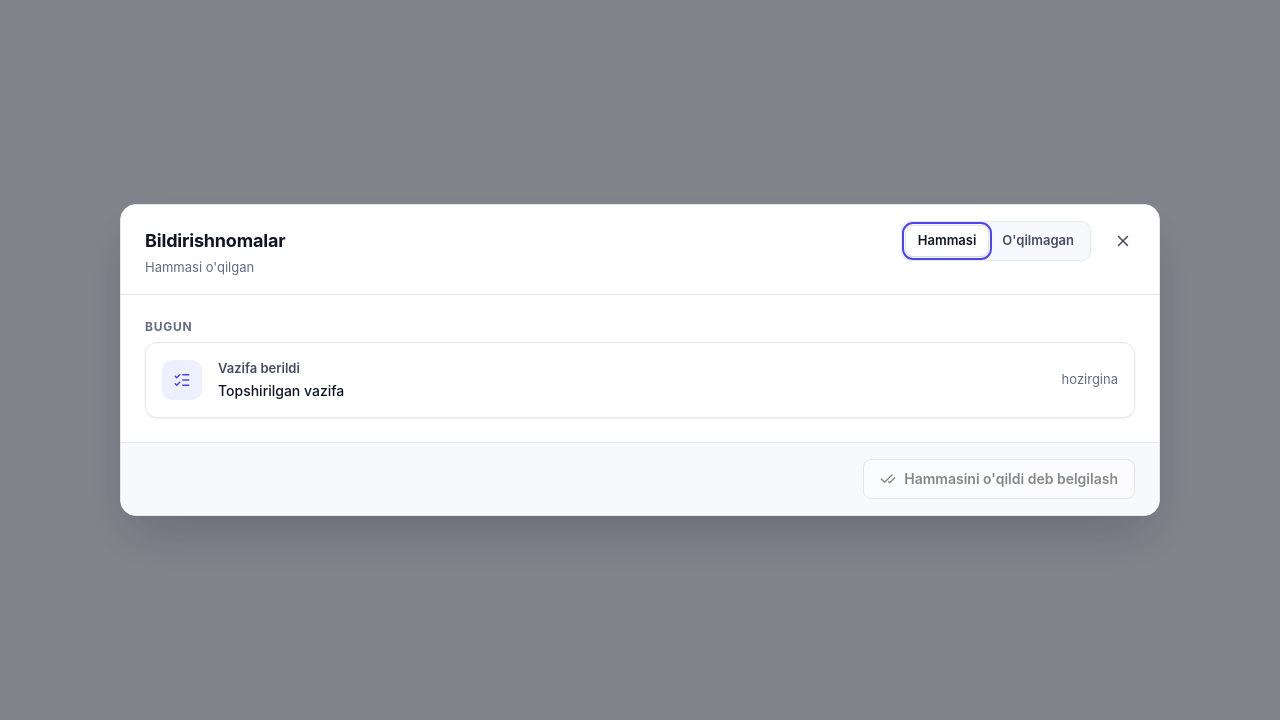
Scenario: NotificationsModal › bosilsa tegishli nishon (task) modali shu modal o'rniga ochiladi
What coordinates should you click on to do the following:
click the text "Topshirilgan vazifa"
I would click on:
 (281, 391)
Its box is left=218, top=382, right=344, bottom=399.
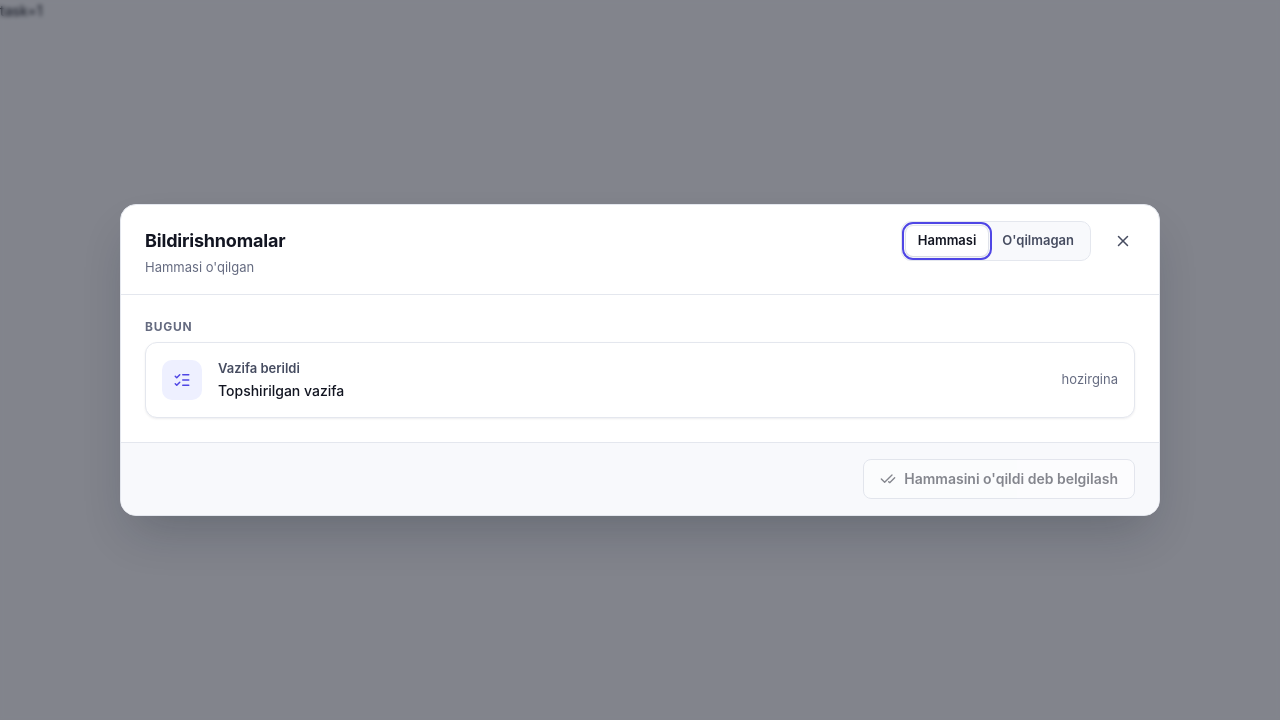
Expected: the text named "modal" reads "task=1", left=0, top=2, right=42, bottom=19
